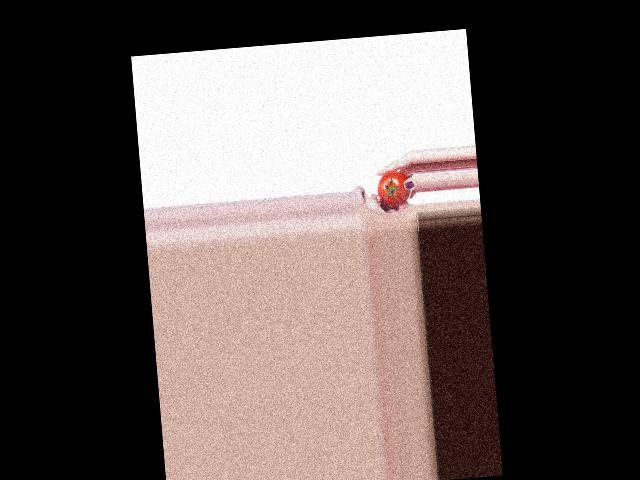tomato: (376, 169, 413, 206)
